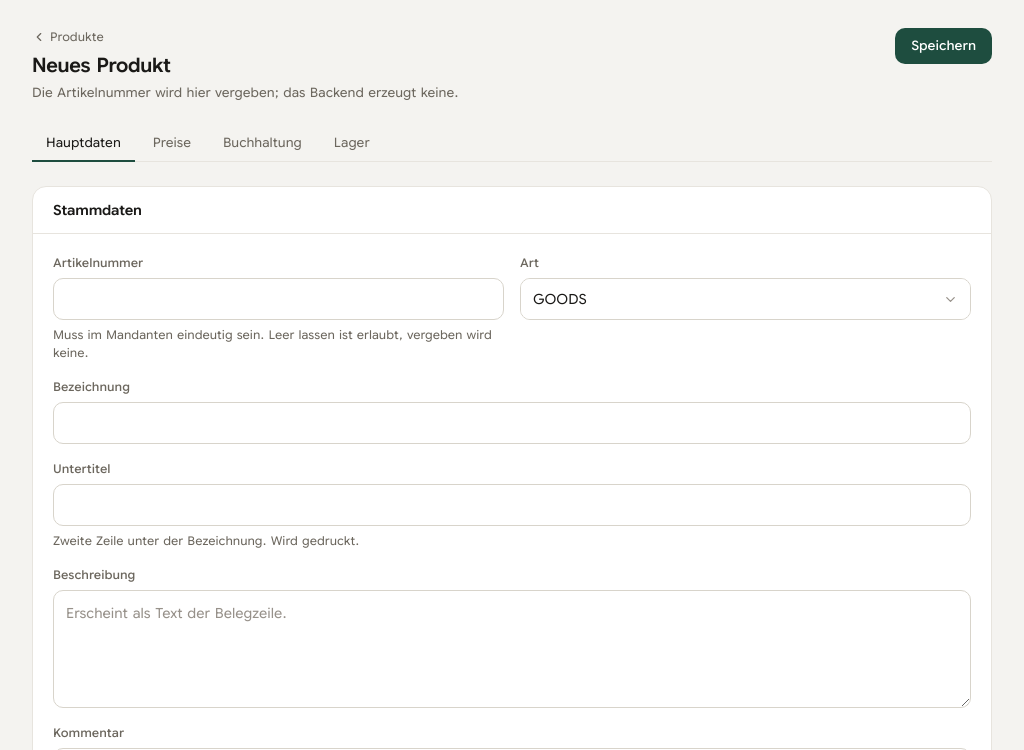
Test case: ProductPage › productPageShowsTheStockRegisterWithRightAndModuleTest
Click the tab "Lager". click: (352, 144)
box: [320,126,384,162]
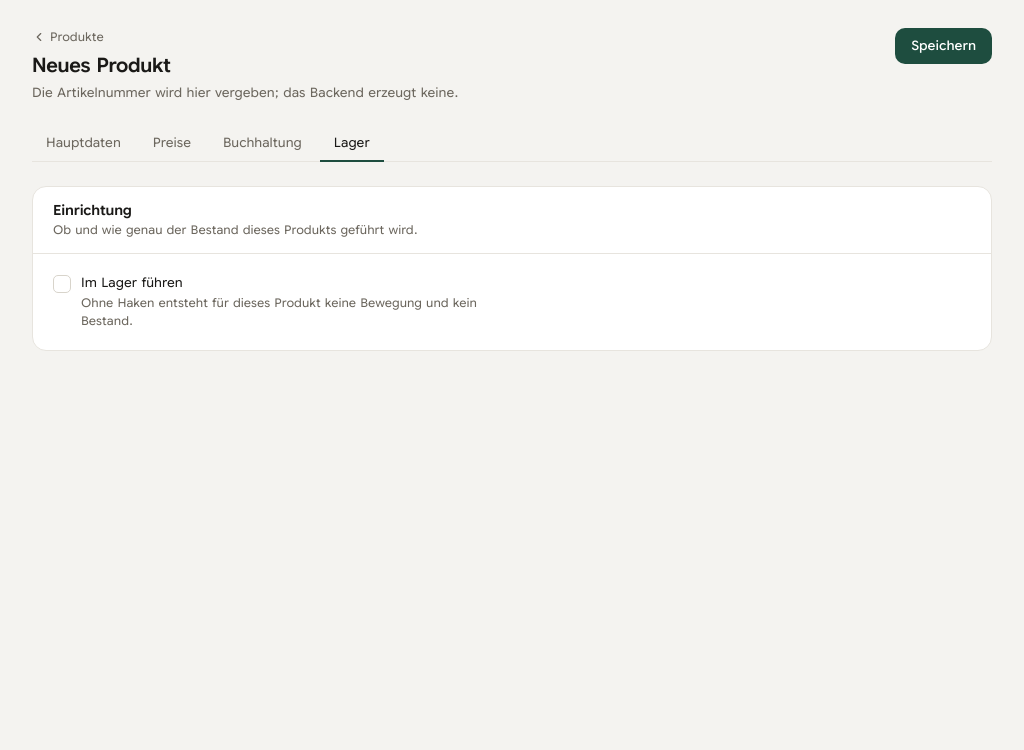
Expected: the text "Im Lager führen" is shown, [81,274,183,291]
